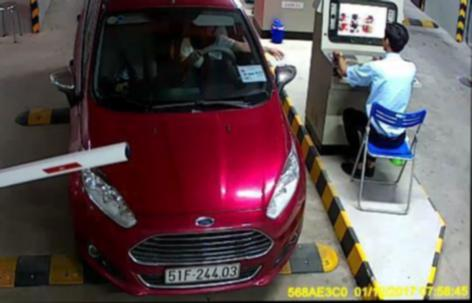License_Plate: (162, 263, 246, 284)
